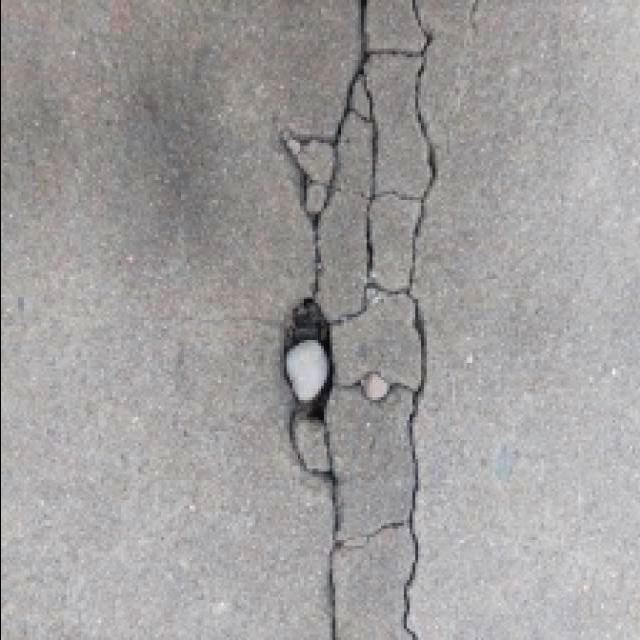SurfaceCrack: (262, 0, 460, 640)
